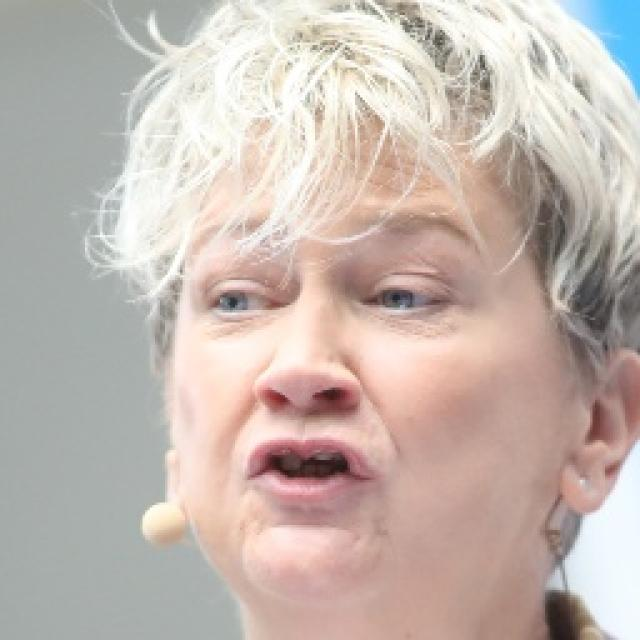earlobe: (560, 347, 640, 517)
